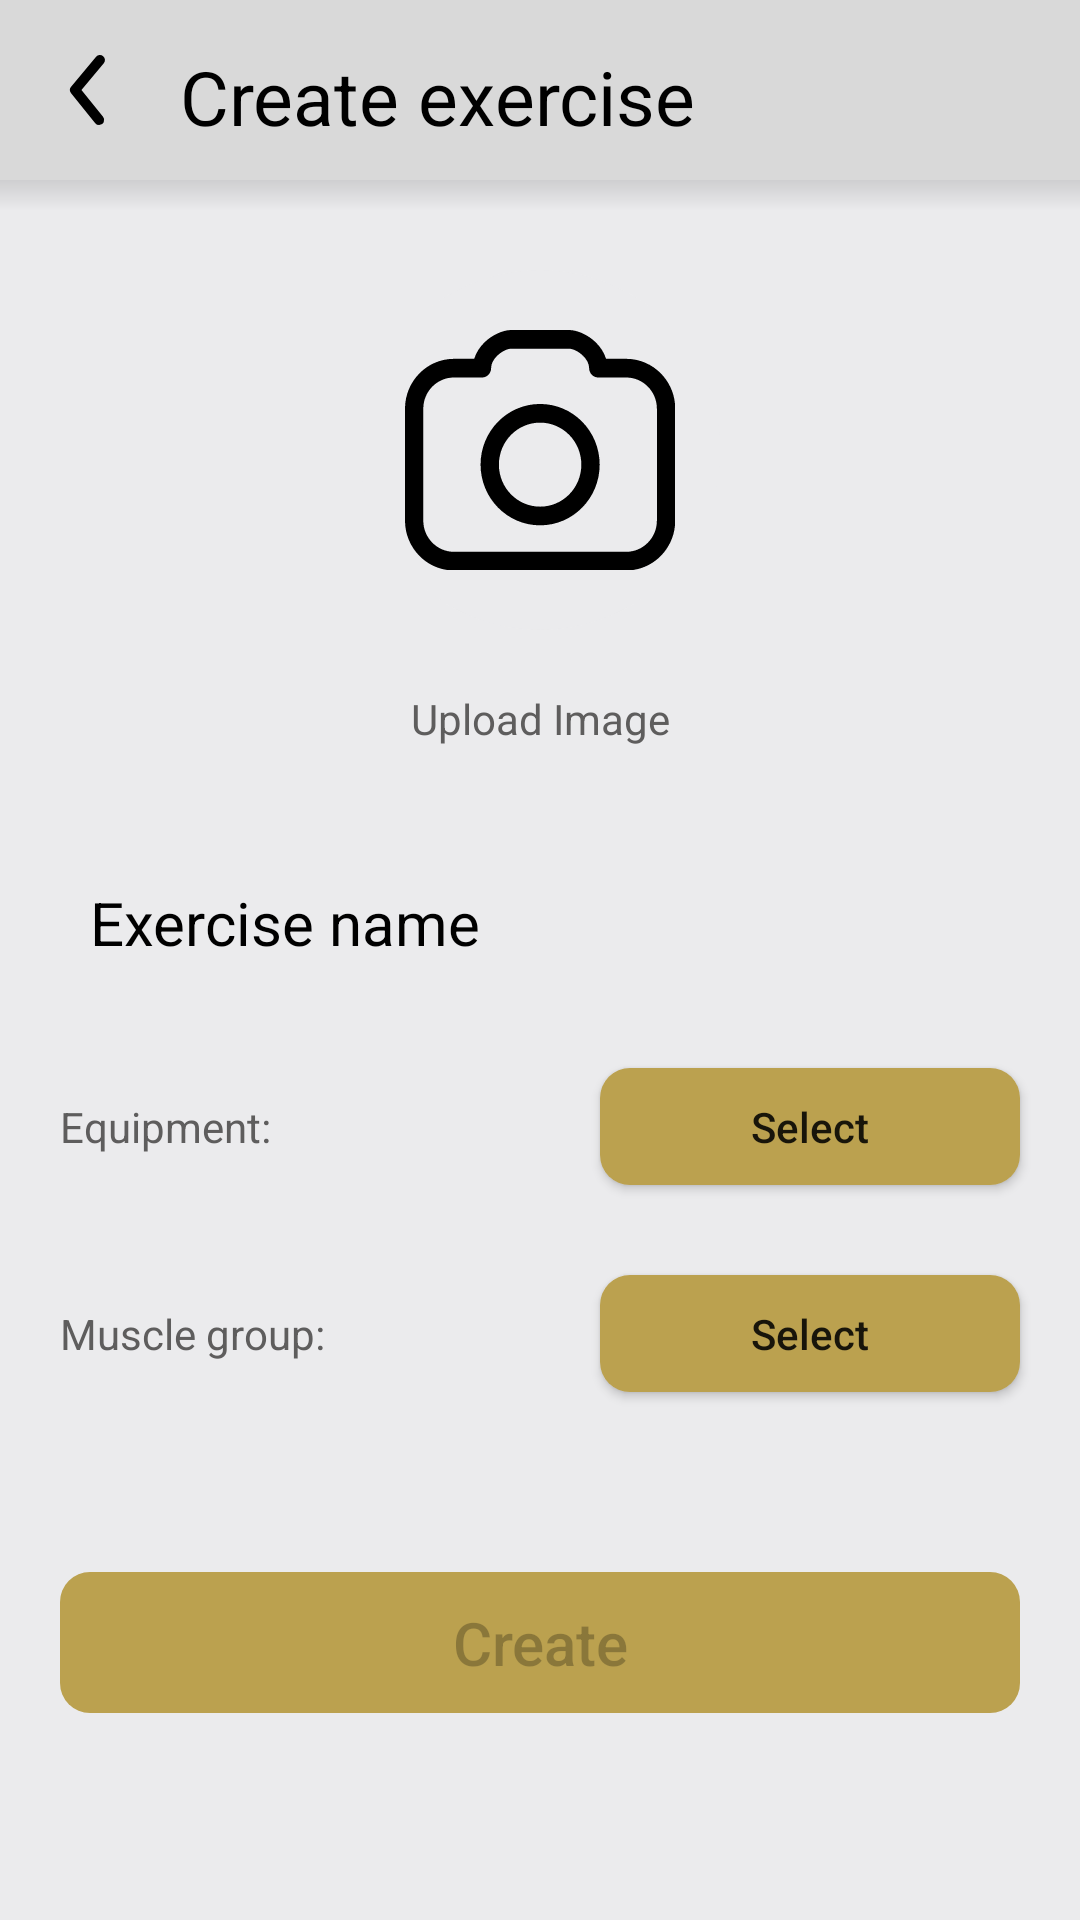

Icons on this 1080px×1920px Android screen, each with the point to tap as (x=x, y=y):
back arrow: (x=87, y=90)
camera: (x=540, y=450)
